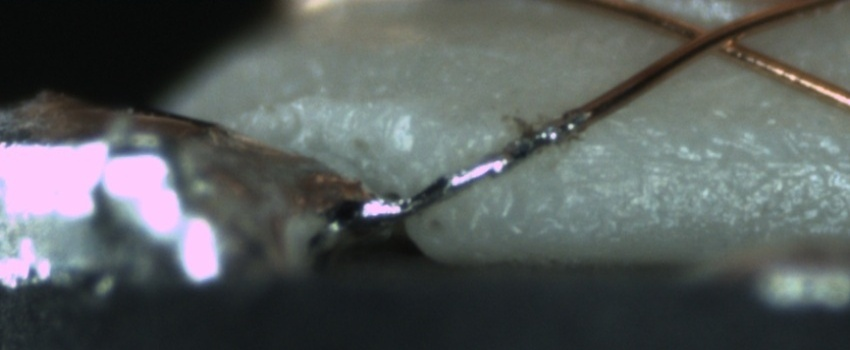CL: (667, 10, 763, 64)
DL: (544, 127, 849, 191)
TS: (401, 110, 590, 220)
TTCW: (381, 92, 620, 220)
